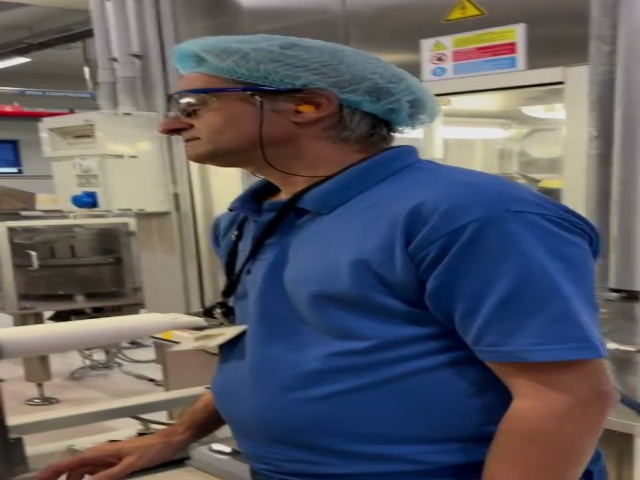Earplug: (292, 89, 342, 123)
Hairnet: (176, 33, 432, 123)
No_Helmet: (181, 36, 424, 89)
No_Vest: (226, 180, 609, 463)
Person: (169, 34, 610, 480)
Safety_Goggles: (171, 89, 302, 121)
